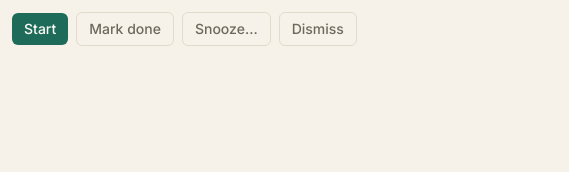
Test: ActionStatusControls › says the card changed on stale and refreshes
Click the button "Dismiss": (318, 29) left=279, top=12, right=357, bottom=46
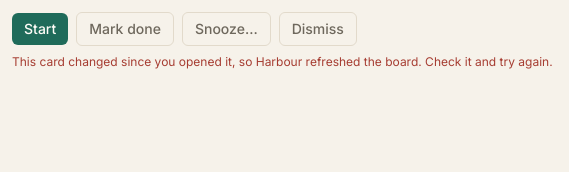
Result: the message shows "This card changed since you opened it, so Harbour refreshed the board. Check it and try again." at left=12, top=54, right=553, bottom=69
